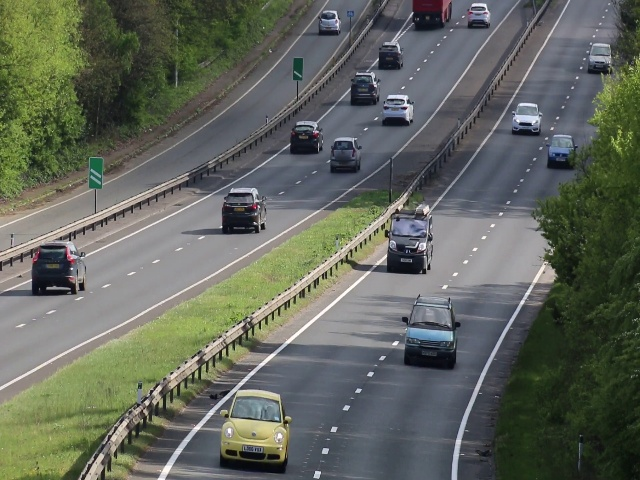car: (217, 387, 293, 469), (33, 237, 87, 300), (406, 303, 455, 365), (386, 214, 432, 272), (221, 189, 268, 231), (328, 137, 361, 173), (380, 92, 414, 125), (290, 121, 322, 153), (511, 101, 542, 133), (350, 69, 378, 103), (587, 40, 611, 76), (376, 40, 404, 69), (549, 133, 570, 168), (318, 8, 341, 35), (467, 2, 490, 28)
